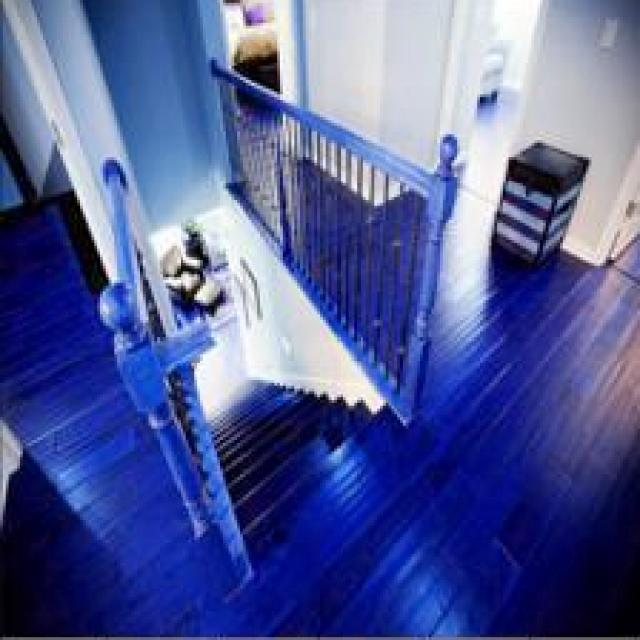downstair: (224, 367, 398, 541)
